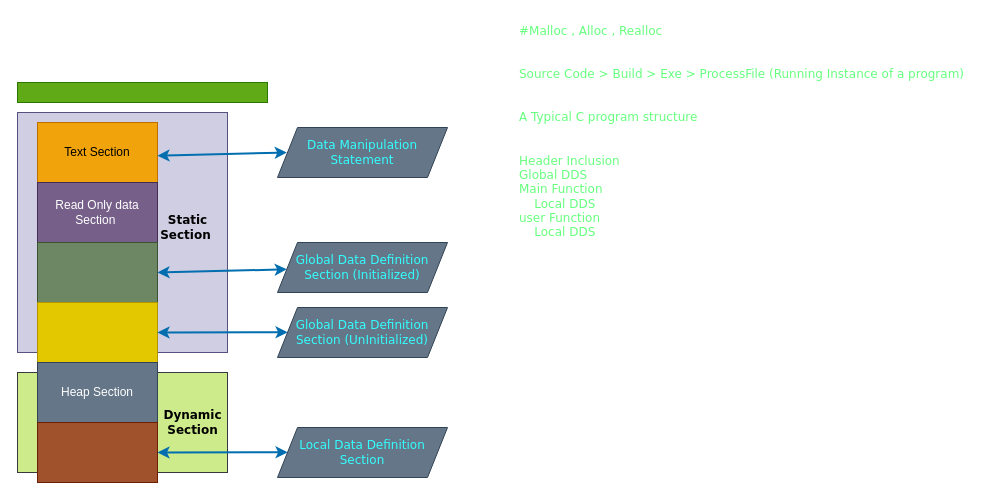
Some shapes in this 1005 by 500 pixel diagram are drawn without their labels. Here are the shapes that lost their labels. From the top down, the box of each, then its label:
(16, 82, 268, 102): Process : running instance of a Program
(36, 242, 158, 302): Data Section
(36, 302, 158, 362): BSS Section
(36, 422, 158, 482): Stack Section
